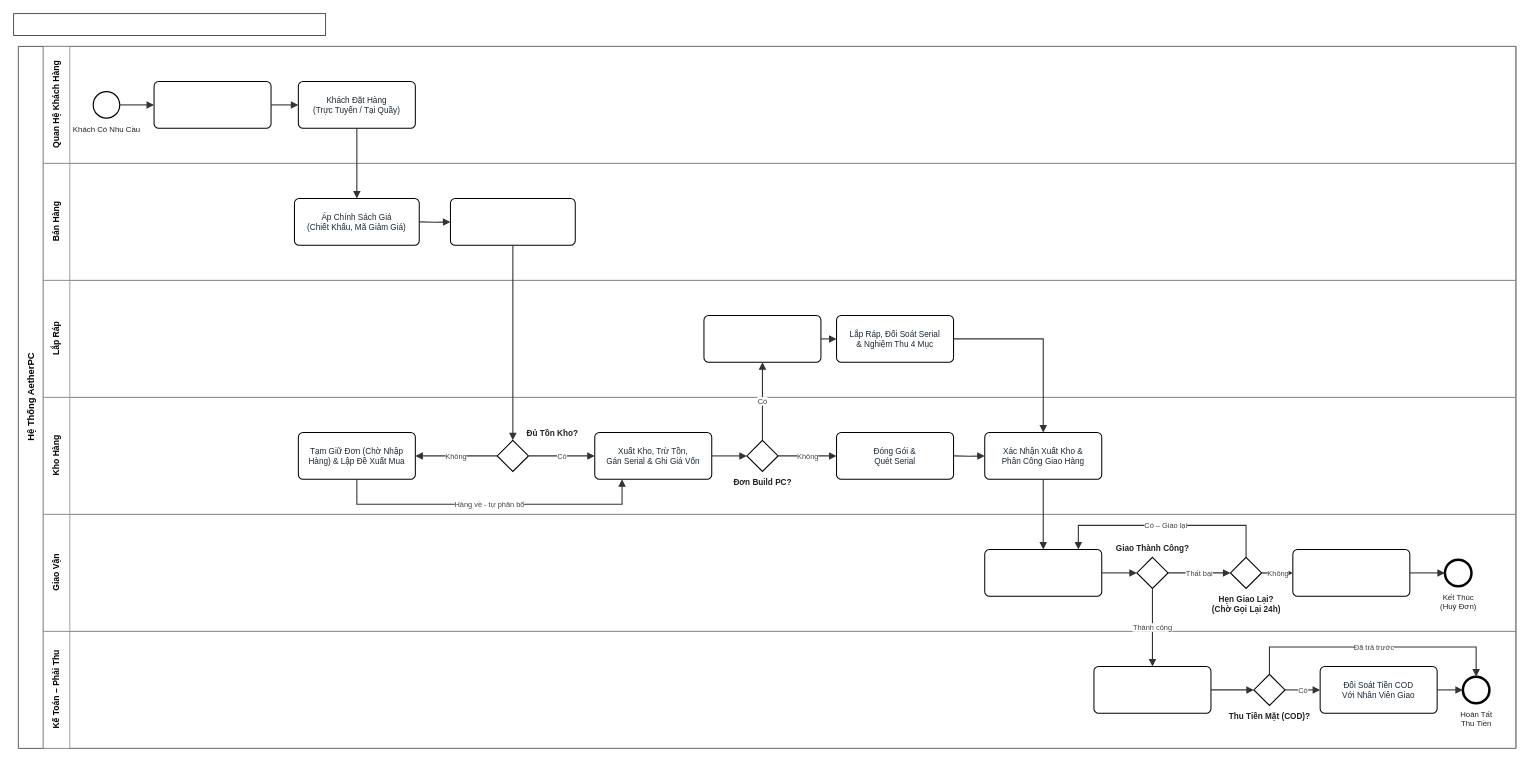
Image size: 1533x762. Some labels were removed from this diagram. Each missing label, with the centre of its shape:
Ghi Nhận Phiếu Thu Thanh Toán Đơn Hàng: the point at 1152,689
Giao Hàng & Chụp Ảnh Xác Nhận: the point at 1043,572
Hoàn Về Kho, QC Kiểm Kiện Rồi Huỷ Đơn & Hoàn Tồn: the point at 1351,572
Lệnh Lắp Ráp Tự Sinh Từ Đơn: the point at 762,338
Quy Trình Bán Hàng – Thu Tiền: the point at 169,24
Quản Lý Khách Hàng & Hạng Thành Viên: the point at 212,104
Xác Nhận Đơn Hàng (Đối Soát Chuyển Khoản): the point at 512,221
